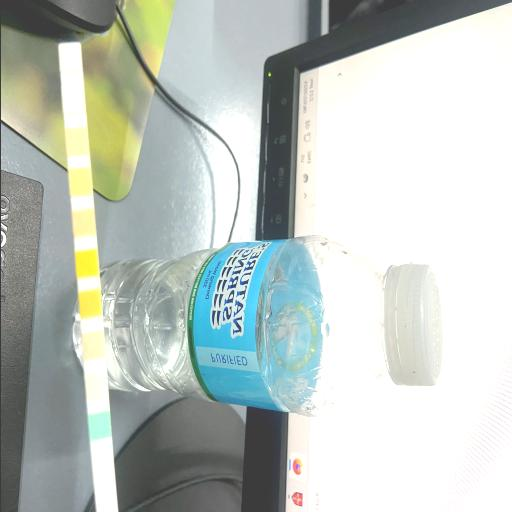Bilirubin: (86, 374, 106, 396)
Blood: (77, 253, 97, 276)
Glucose: (88, 414, 108, 437)
Ketone: (82, 335, 102, 358)
Leukocytes: (60, 46, 80, 68)
Nitrite: (62, 88, 82, 111)
Protein: (70, 170, 90, 194)
SpGravity: (80, 292, 100, 315)
Urobilinogen: (66, 130, 86, 153)
pH: (74, 212, 94, 236)
strip: (57, 42, 117, 511)
